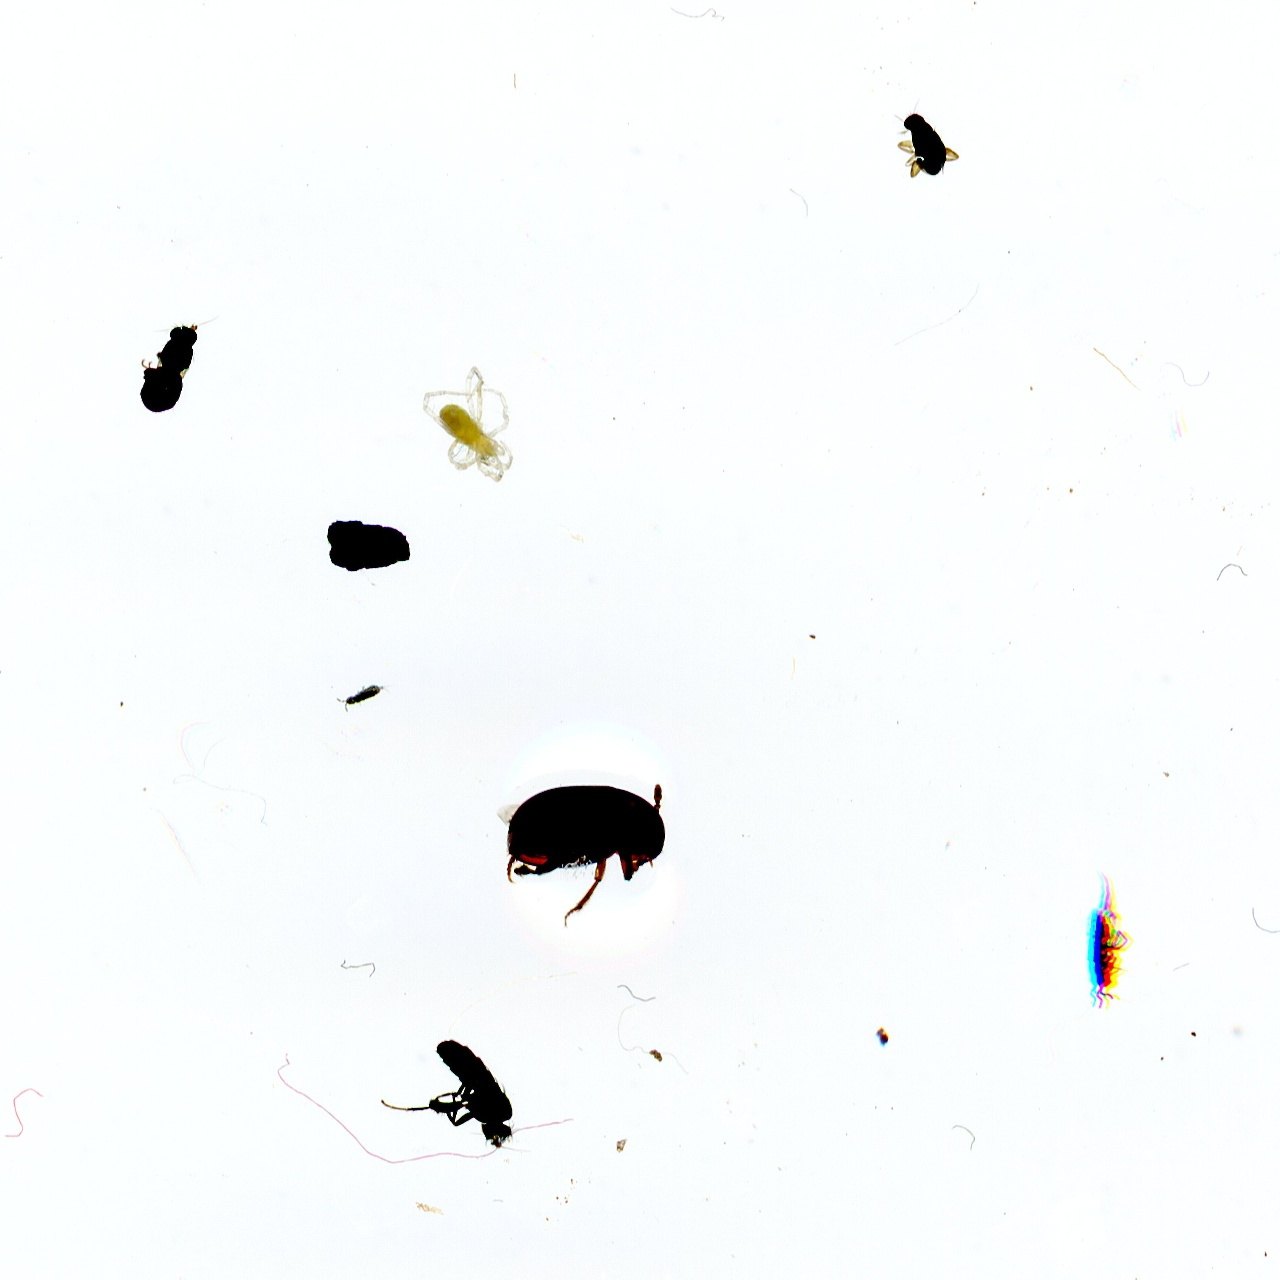arthropod: (491, 780, 670, 932), (368, 1031, 538, 1163), (121, 287, 230, 429), (418, 364, 519, 485), (1080, 856, 1134, 1018), (889, 94, 964, 184), (331, 678, 402, 717)
